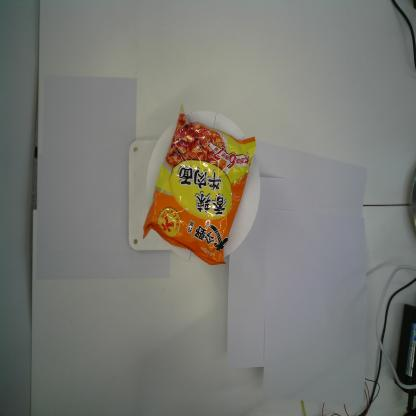Instant Noodles: (142, 102, 258, 266)
